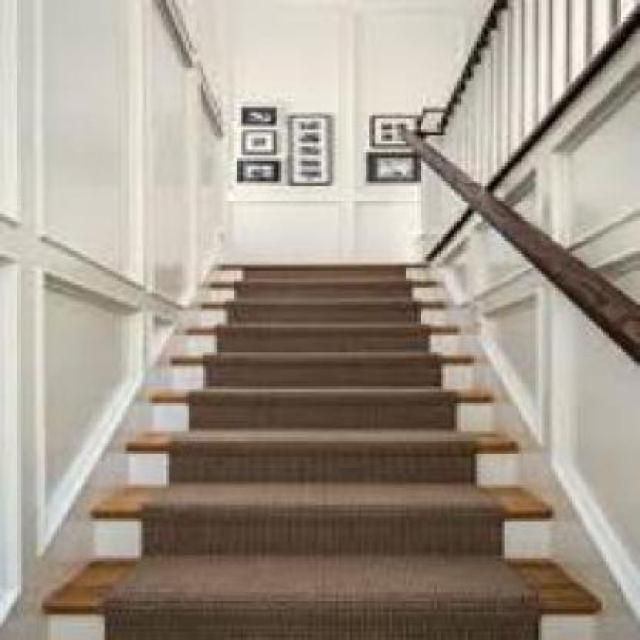stair: (68, 402, 600, 635)
